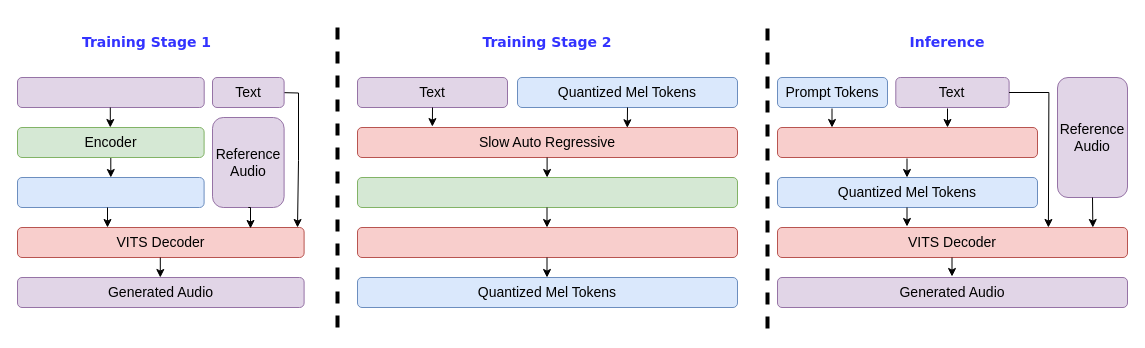
This 1145x348 diagram has some shape labels left out. The box of each missing label's shape, as (x1, y1, x2, y2) in pixels:
Auto Regressive Language Model: (776, 126, 1038, 158)
Fast Auto Regressive: (356, 226, 738, 258)
Latent Features: (356, 176, 738, 208)
Mel Spectrogram: (16, 76, 204, 108)
Quantize (Tokens): (16, 176, 204, 208)
